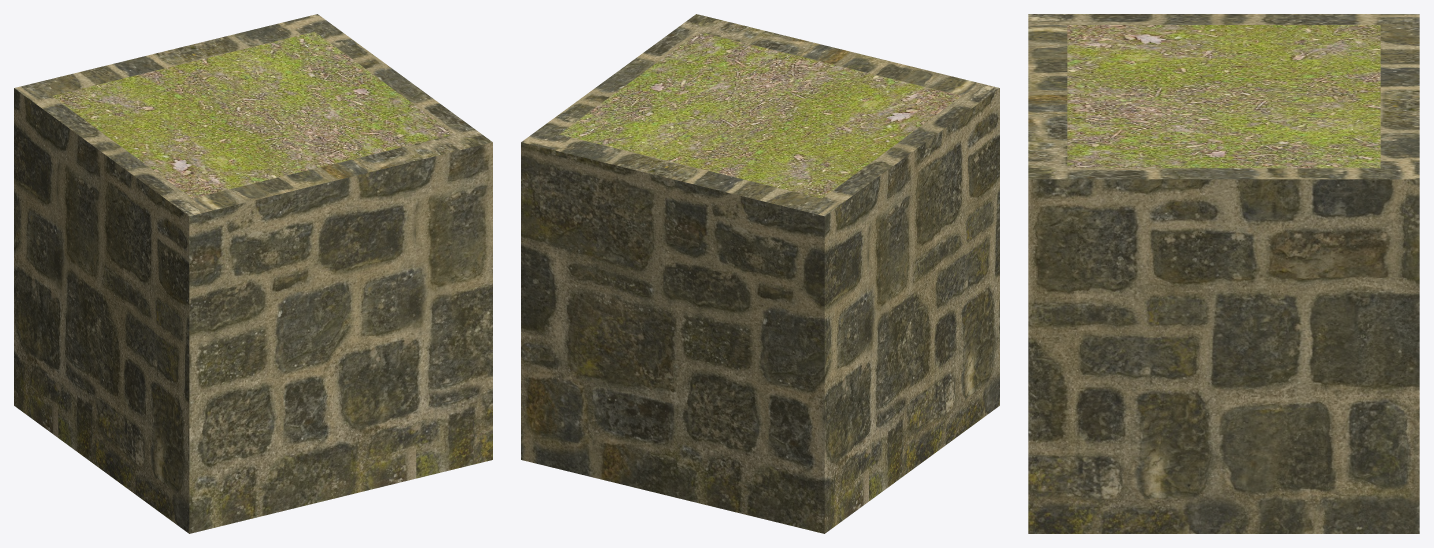
The picture shows the model from 3 angles, left to right: view 1: azimuth 30°, elevation 25°; view 2: azimuth 150°, elevation 25°; view 3: azimuth 270°, elevation 25°; orthographic projection. The views are drawn at different scales.
Visible parts, largest first — view 1: Cube; view 2: Cube; view 3: Cube.
Part boxes in pixels (x1,y1,x2,y2): Cube: [14, 14, 492, 533]; Cube: [521, 14, 999, 533]; Cube: [1028, 14, 1419, 533].
Size of the model in its own units: 2 by 2 by 2.
Materials: 1 (1 with a texture image).
